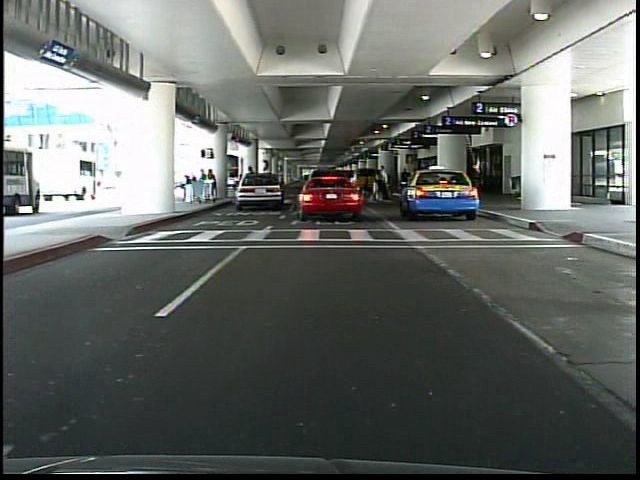person: (246, 163, 260, 206), (399, 165, 411, 202), (381, 164, 392, 200), (360, 172, 371, 202)
